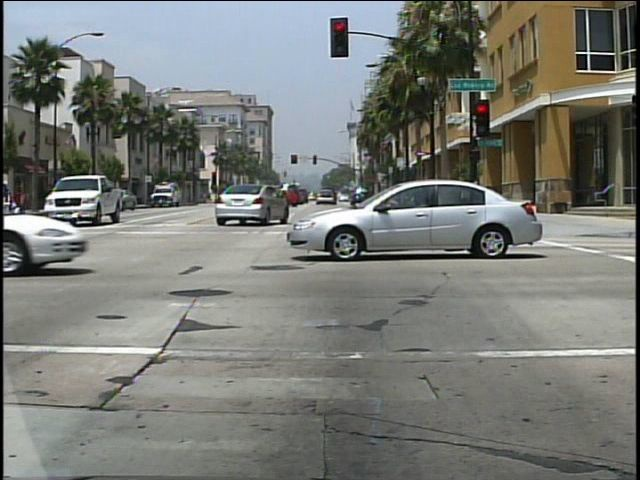person: (2, 178, 24, 231)
